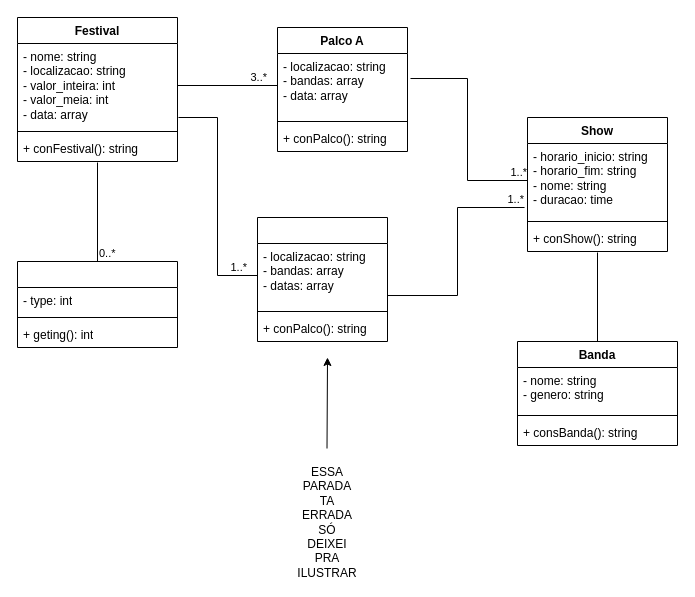
Image size: 695x597. Some labels were removed from this diagram. Each missing label, with the box of its shape:
Ingresso: (16, 260, 178, 348)
Palco B: (256, 216, 388, 342)
